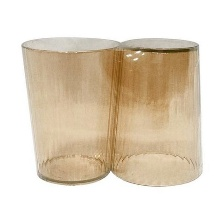glass: (16, 32, 124, 193), (103, 30, 210, 191)
